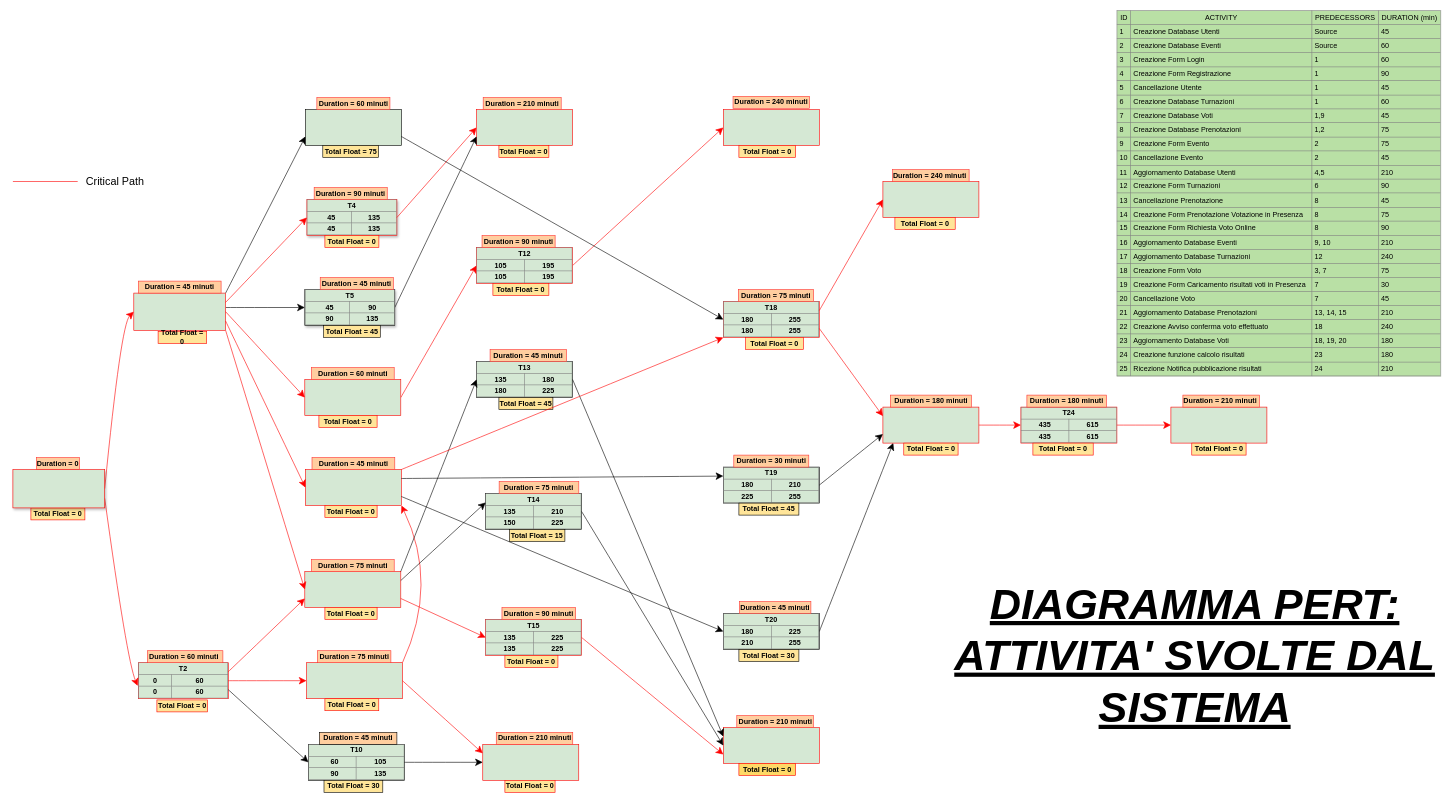
This 1451x803 diagram has some shape labels left out. The shapes that lost their labels are listed below. From the top down, each one's centre as x and y in pixels, then its label:
At [353,127]: "T3 45 105 120 180".
At [524,127]: "T11 135 345 135 345".
At [771,127]: "T17 195 435 195 435".
At [930,199]: "T22 255 495 255 495".
At [179,311]: "T1 0 45 0 45".
At [352,397]: "T6 45 105 45 105".
At [930,424]: "T23 255 435 255 435".
At [1218,424]: "T25 615 825 615 825".
At [59,489]: "Source 0 0 0 0 0".
At [353,487]: "T7 135 180 135 180".
At [352,589]: "T8 60 135 60 135".
At [354,680]: "T9 60 135 60 135".
At [530,762]: "T16 135 345 135 345".
At [771,745]: "T21 225 435 225 435".
